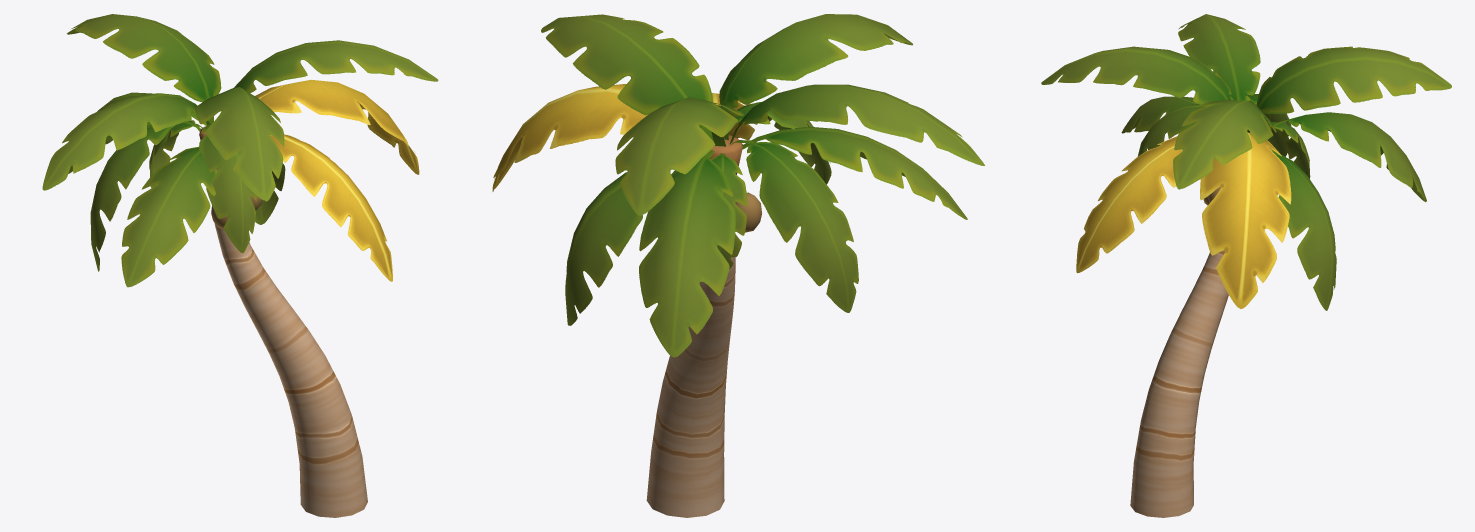
File: ride-a-fish-palm-curved-refined-v7.glb
The picture shows the model from 3 angles, left to right: view 1: azimuth 30°, elevation 25°; view 2: azimuth 150°, elevation 25°; view 3: azimuth 270°, elevation 25°; orthographic projection. The views are drawn at different scales.
Visible parts, largest first — view 1: Ride_A_Fish_Refined_Curved; view 2: Ride_A_Fish_Refined_Curved; view 3: Ride_A_Fish_Refined_Curved.
Boxes of the visible parts, <box> form: Ride_A_Fish_Refined_Curved: <box>42,14,438,517</box>; Ride_A_Fish_Refined_Curved: <box>492,14,984,517</box>; Ride_A_Fish_Refined_Curved: <box>1041,14,1451,517</box>.
Size of the model in its own units: 7.5 by 7.54 by 7.18.
4 materials, 3 textured.
